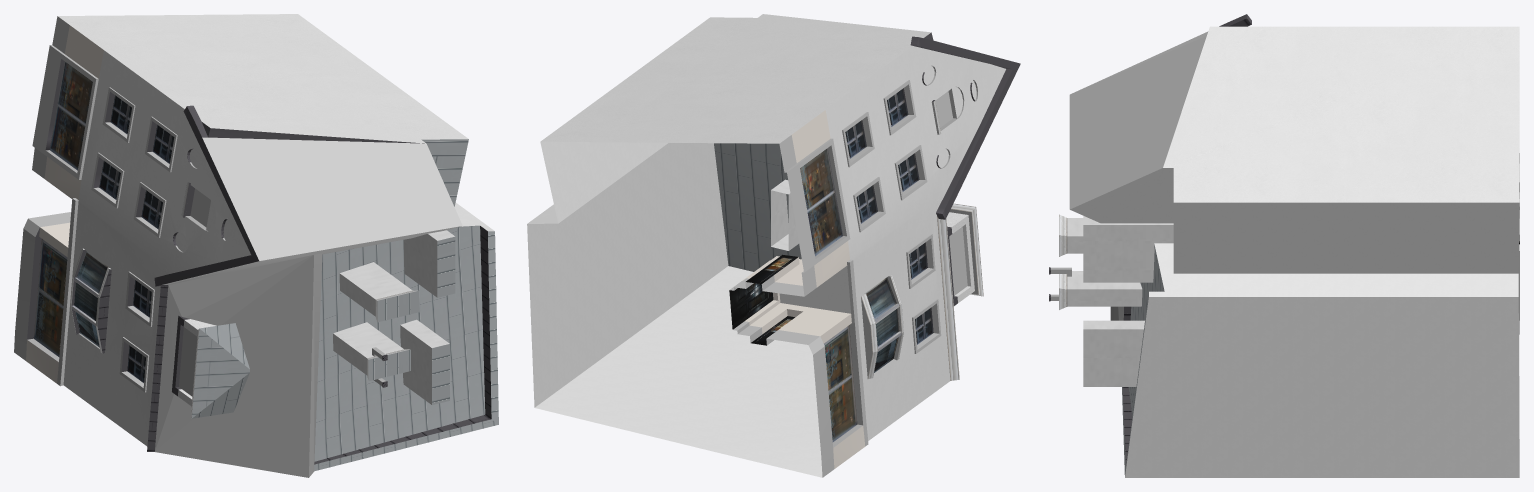
The model's file is Kullassepa_11.obj.
The picture shows the model from 3 angles, left to right: view 1: azimuth 30°, elevation 25°; view 2: azimuth 150°, elevation 25°; view 3: azimuth 270°, elevation 25°; orthographic projection.
Parts seen in each view (by area): view 1: Kullassepa_11; view 2: Kullassepa_11; view 3: Kullassepa_11.
Boxes of the visible parts, x1=… form: Kullassepa_11: x1=14, y1=14, x2=498, y2=477; Kullassepa_11: x1=527, y1=14, x2=1020, y2=477; Kullassepa_11: x1=1049, y1=14, x2=1519, y2=477.
Size of the model in its own units: 11.91 by 12.73 by 15.99.
